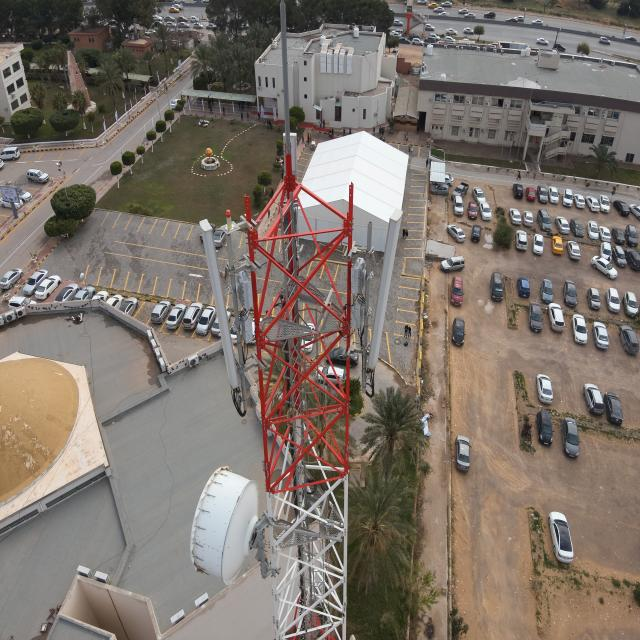Ground Based: (200, 0, 354, 640)
